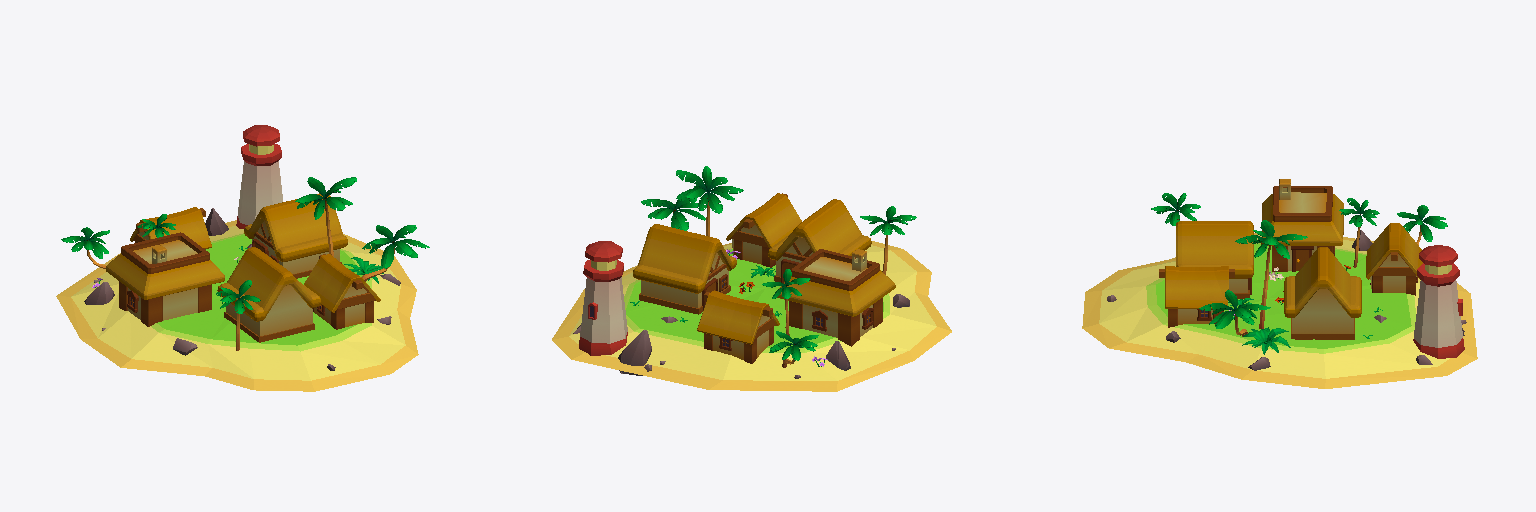
The picture shows the model from 3 angles: view 1: azimuth 30°, elevation 25°; view 2: azimuth 150°, elevation 25°; view 3: azimuth 270°, elevation 25°; orthographic projection.
Visible parts, largest first — view 1: Object004, Roof, Roof001, Object001, House001, Lighthouse_01, Object005, Object003, M_Island, Palm_Tree_C_03, Palm_Tree_B_02, Object002 (+8 smaller); view 2: Object004, Roof, Roof001, Object002, Object001, Lighthouse_01, Object005, Palm_Tree_B_02, M_Island, House, Object003, Lighthouse_04 (+9 smaller); view 3: Object004, Roof001, Roof, Lighthouse_01, Object005, House, Object001, Object002, Palm_Tree_B_02, Lighthouse_04, Palm_Tree_C_03, Object003 (+7 smaller).
Boxes of the visible parts, x1=… form: Object004: x1=56, y1=220, x2=418, y2=391; Roof: x1=244, y1=193, x2=347, y2=261; Roof001: x1=217, y1=247, x2=321, y2=321; Object001: x1=106, y1=254, x2=224, y2=299; House001: x1=224, y1=285, x2=314, y2=342; Lighthouse_01: x1=238, y1=161, x2=282, y2=224; Object005: x1=304, y1=254, x2=380, y2=312; Object003: x1=121, y1=232, x2=209, y2=273; M_Island: x1=84, y1=208, x2=400, y2=370; Palm_Tree_C_03: x1=362, y1=225, x2=429, y2=281; Palm_Tree_B_02: x1=295, y1=177, x2=356, y2=256; Object002: x1=130, y1=207, x2=211, y2=248; Object004: x1=552, y1=241, x2=951, y2=391; Roof: x1=633, y1=224, x2=736, y2=293; Roof001: x1=768, y1=199, x2=871, y2=260; Object002: x1=697, y1=290, x2=779, y2=344; Object001: x1=777, y1=270, x2=895, y2=316; Lighthouse_01: x1=580, y1=277, x2=627, y2=343; Object005: x1=726, y1=193, x2=801, y2=247; Palm_Tree_B_02: x1=676, y1=166, x2=743, y2=236; M_Island: x1=573, y1=294, x2=909, y2=375; House: x1=639, y1=253, x2=730, y2=314; Object003: x1=791, y1=249, x2=879, y2=290; Lighthouse_04: x1=583, y1=241, x2=623, y2=281; Object004: x1=1082, y1=233, x2=1477, y2=388; Roof001: x1=1176, y1=221, x2=1253, y2=278; Roof: x1=1284, y1=247, x2=1361, y2=317; Lighthouse_01: x1=1414, y1=280, x2=1462, y2=347; Object005: x1=1165, y1=266, x2=1228, y2=308; House: x1=1291, y1=289, x2=1354, y2=339; Object001: x1=1261, y1=194, x2=1343, y2=245; Object002: x1=1366, y1=223, x2=1422, y2=279; Palm_Tree_B_02: x1=1235, y1=220, x2=1307, y2=328; Lighthouse_04: x1=1417, y1=245, x2=1459, y2=286; Palm_Tree_C_03: x1=1199, y1=290, x2=1270, y2=336; Object003: x1=1273, y1=186, x2=1332, y2=221.
Size of the model in its own units: 12.24 by 4.54 by 13.04.
23 materials, 23 textured.